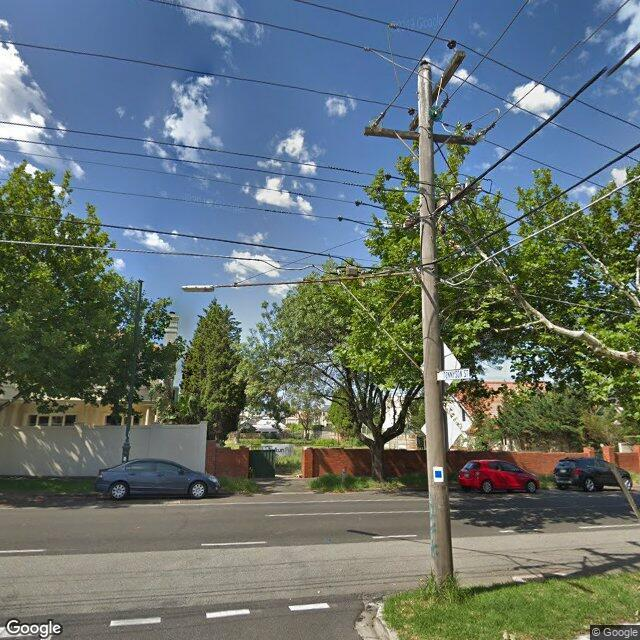HV-transmission: (368, 59, 497, 142), (407, 39, 457, 117)
crossarm: (408, 50, 466, 131), (401, 181, 480, 229), (362, 126, 476, 146)
steel-pole: (122, 280, 142, 464)
streetlight: (182, 267, 421, 294)
timber-pole: (417, 64, 453, 588)
